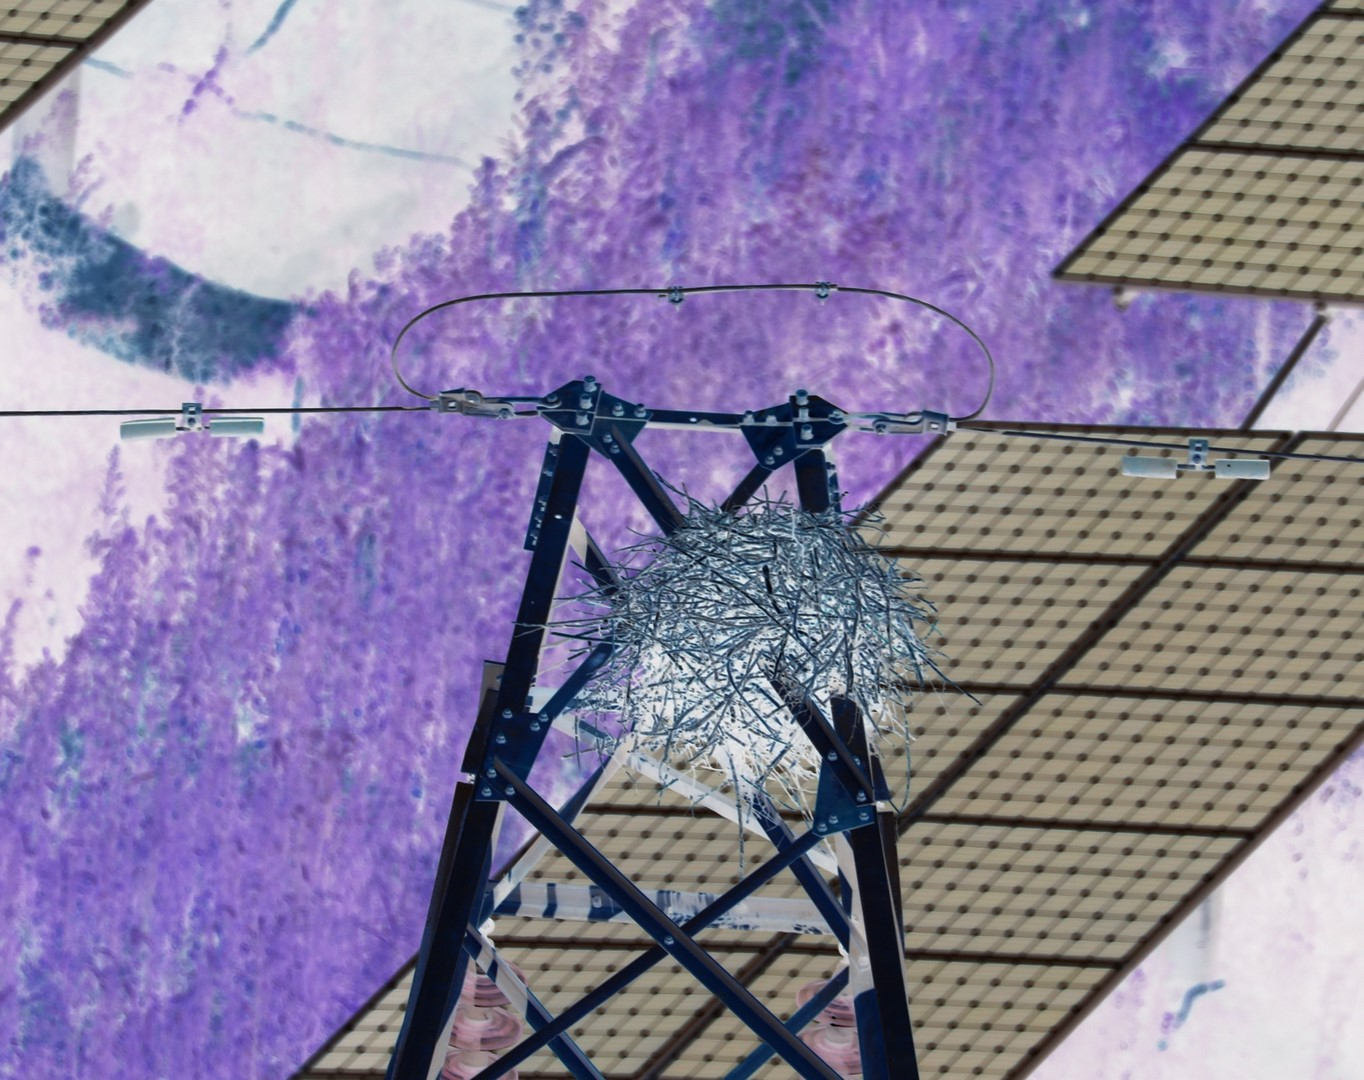niaowo: (552, 474, 936, 795)
